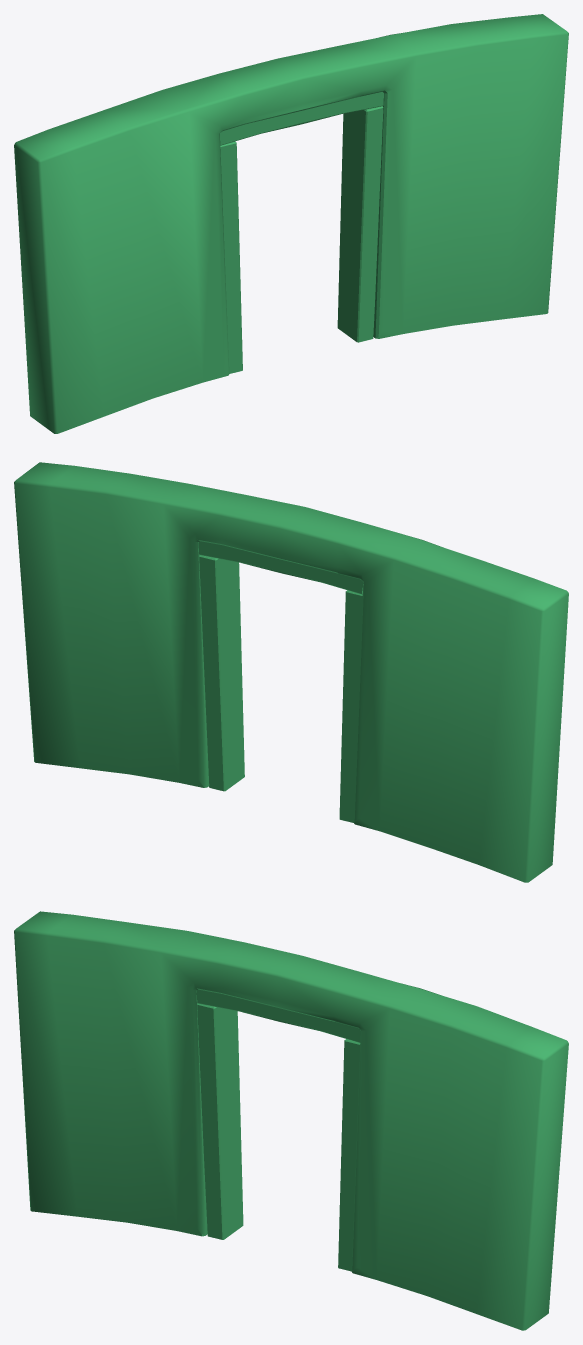
The model's file is SM_wallDoor_low.fbx.
The picture shows the model from 3 angles, top to bottom: view 1: azimuth 30°, elevation 25°; view 2: azimuth 150°, elevation 25°; view 3: azimuth 330°, elevation 25°; orthographic projection.
Parts seen in each view (by area): view 1: SM_wallDoor_low; view 2: SM_wallDoor_low; view 3: SM_wallDoor_low.
Boxes of the visible parts, left/top/right/bottom form: SM_wallDoor_low: left=14, top=14, right=568, bottom=433; SM_wallDoor_low: left=14, top=462, right=568, bottom=882; SM_wallDoor_low: left=14, top=911, right=568, bottom=1330.
Size of the model in its own units: 504 by 270 by 47.02.
